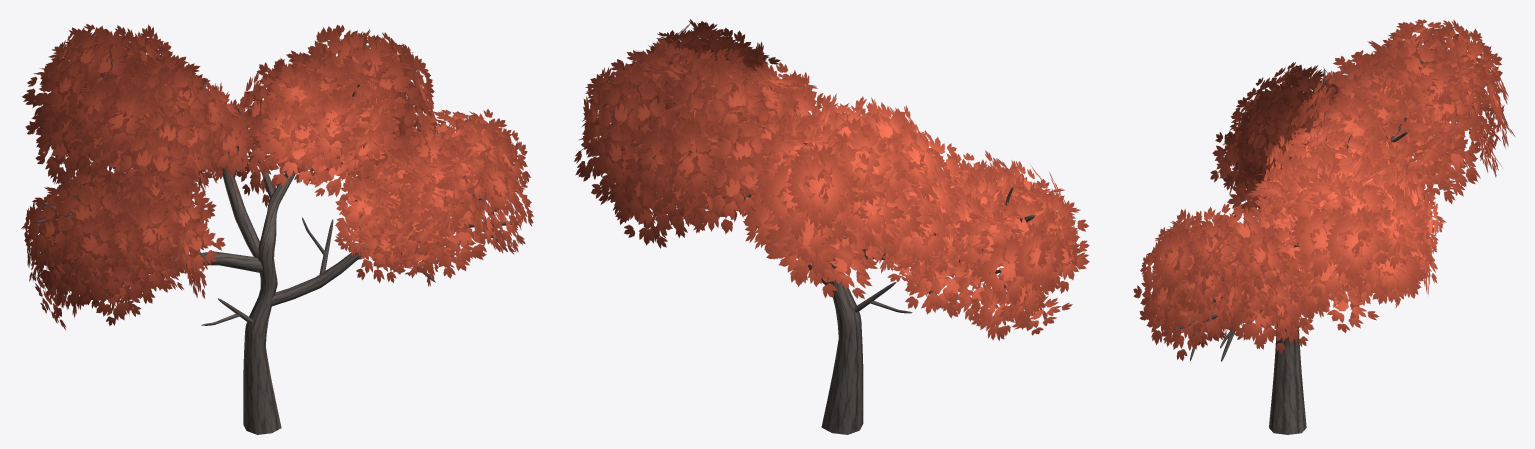
Rendered from tree-maple-2.glb.
The picture shows the model from 3 angles, left to right: view 1: azimuth 30°, elevation 25°; view 2: azimuth 150°, elevation 25°; view 3: azimuth 270°, elevation 25°; orthographic projection. The views are drawn at different scales.
Visible parts, largest first — view 1: MapleTree_3; view 2: MapleTree_3; view 3: MapleTree_3.
Boxes of the visible parts, x1=… form: MapleTree_3: x1=21, y1=24, x2=533, y2=434; MapleTree_3: x1=574, y1=19, x2=1089, y2=434; MapleTree_3: x1=1133, y1=19, x2=1514, y2=434.
Bounding box in the file's own units: 8.98 × 6.99 × 6.61.
Materials: 2 (2 with a texture image).
